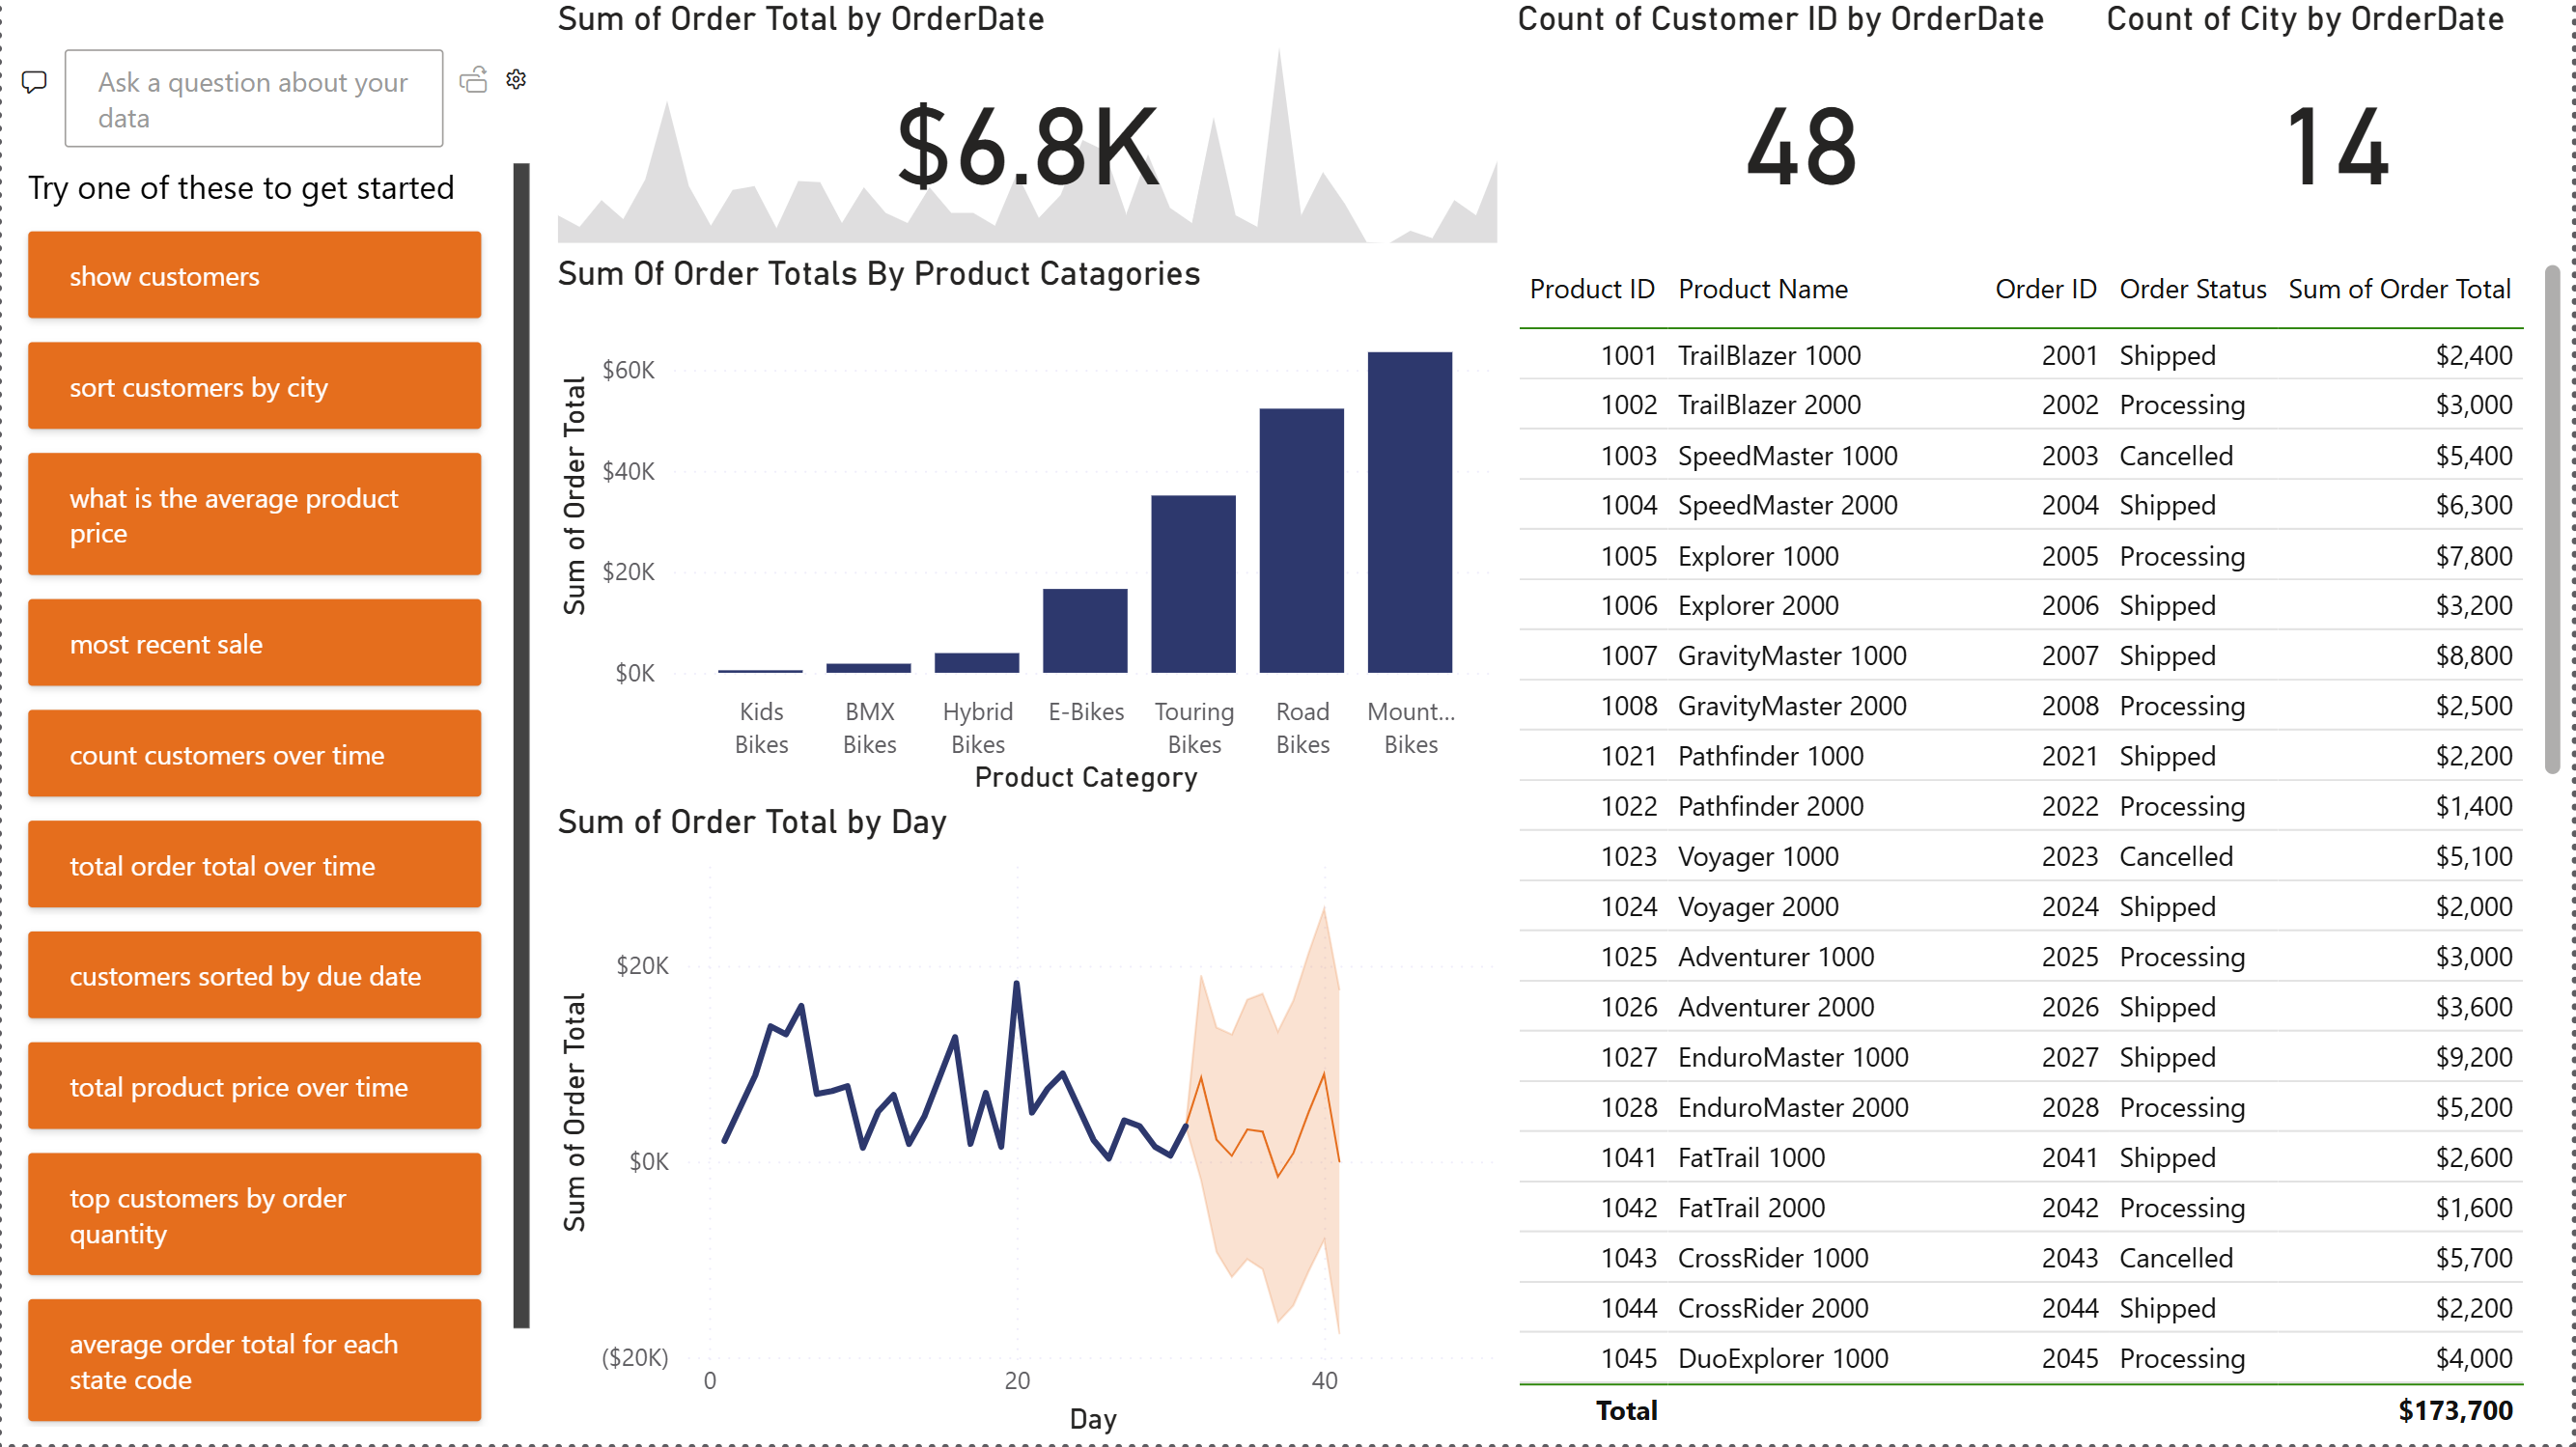

This screenshot's page, from the dashboard's own definition file:
{"tool":"powerbi","page":{"name":"Page 1","canvas":[1280,720],"ordinal":0},"visuals":[{"type":"tableEx","fields":{"Values":["Sales.Product ID","Sales.Product Name","Sales.Order ID","Sales.Order Status","Sum(Sales.Order Total)"]},"box":[750,126.7,530,593.3],"z":0},{"type":"columnChart","title":"Sum Of Order Totals By Product Catagories","fields":{"Category":["Sales.Product Category"],"Y":["Sum(Sales.Order Total)"]},"box":[271.7,126.7,478.3,273.3],"z":1000},{"type":"lineChart","fields":{"Y":["Sum(Sales.Order Total)"],"Category":["Sales.OrderDate.Variation.Date Hierarchy.Day"]},"box":[271.7,400,478.3,320],"z":2000},{"type":"kpi","fields":{"Indicator":["Sum(Sales.Order Total)"],"TrendLine":["Sales.OrderDate"]},"box":[271.7,0,478.3,126.7],"z":3000},{"type":"kpi","fields":{"TrendLine":["Sales.OrderDate"],"Indicator":["CountNonNull(Customers.Customer ID)"]},"box":[750,0,293.3,126.7],"z":4000},{"type":"kpi","fields":{"TrendLine":["Sales.OrderDate"],"Indicator":["Count(Customers.City)"]},"box":[1043.3,0,236.7,126.7],"z":5000},{"type":"qnaVisual","box":[0,0,271.7,720],"z":6000}]}

Visuals, with their boxes on the page's 1280x720 design canvas (x1, y1, x2, y2). These are canvas units, not pixel positions in the 2576x1447 screenshot, which may show the page scaled, cropped or inside an application window:
tableEx - Sales.Product ID x Sales.Product Name: bbox=(750, 127, 1280, 720)
"Sum Of Order Totals By Product Catagories" columnChart: bbox=(272, 127, 750, 400)
lineChart - Sum(Sales.Order Total) x Sales.OrderDate.Variation.Date Hierarchy.Day: bbox=(272, 400, 750, 720)
kpi - Sum(Sales.Order Total) x Sales.OrderDate: bbox=(272, 0, 750, 127)
kpi - Sales.OrderDate x CountNonNull(Customers.Customer ID): bbox=(750, 0, 1043, 127)
kpi - Sales.OrderDate x Count(Customers.City): bbox=(1043, 0, 1280, 127)
qnaVisual: bbox=(0, 0, 272, 720)
